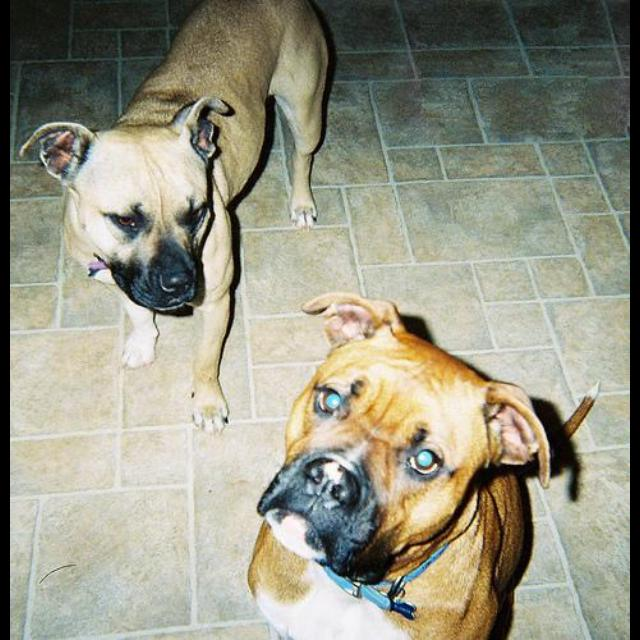amstaff: (19, 2, 335, 437), (247, 291, 601, 640)
